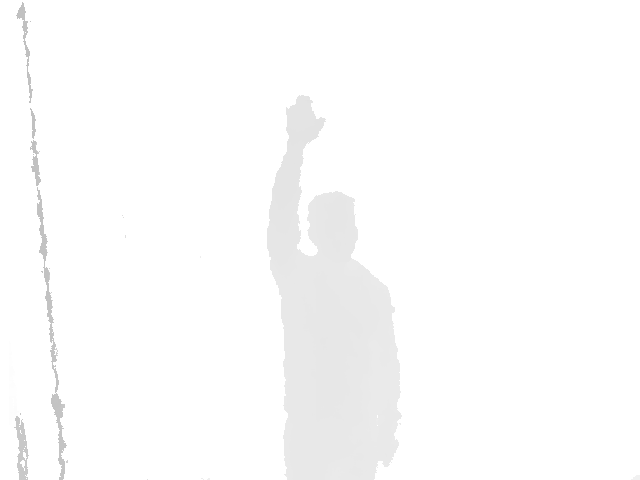hand: (284, 94, 327, 150)
hand_down: (373, 433, 400, 469)
head: (307, 192, 359, 256)
person: (267, 94, 403, 480)
